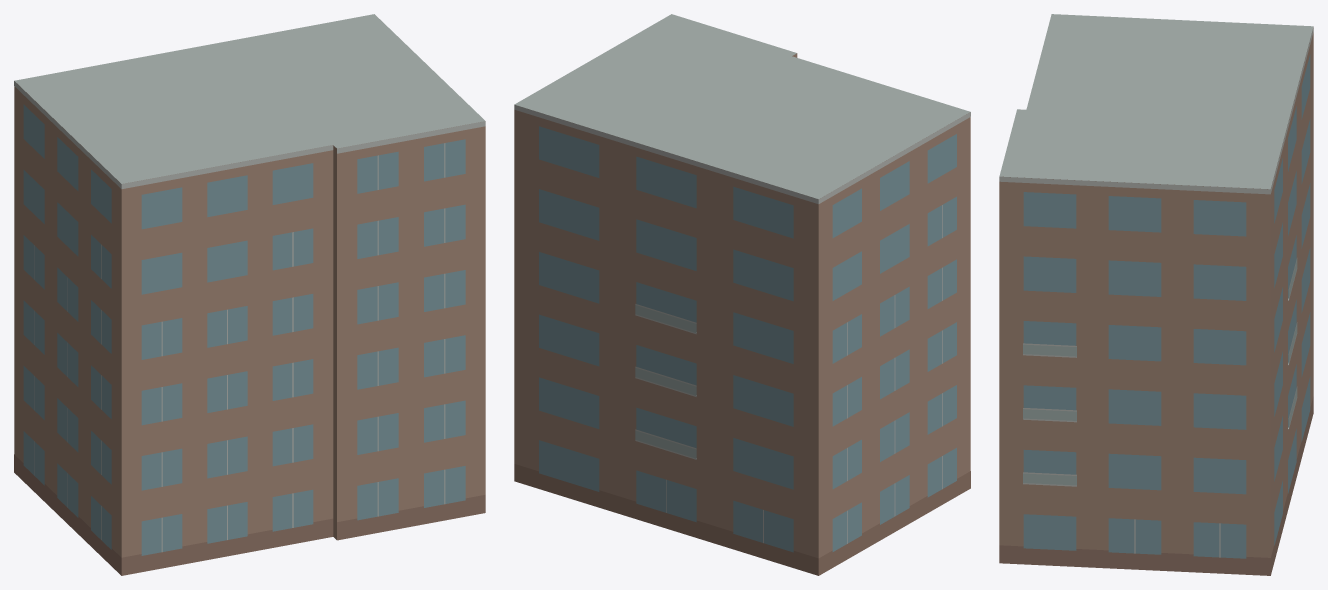
File: survey-upis-32671873.glb
3 renders of one model, left to right at view 1: azimuth 30°, elevation 25°; view 2: azimuth 150°, elevation 25°; view 3: azimuth 270°, elevation 25°, orthographic. The views are drawn at different scales.
Parts seen in each view (by area): view 1: survey-upis-32671873.tmp; view 2: survey-upis-32671873.tmp; view 3: survey-upis-32671873.tmp.
Boxes of the visible parts, left/top/right/bottom form: survey-upis-32671873.tmp: left=14, top=14, right=485, bottom=575; survey-upis-32671873.tmp: left=514, top=14, right=970, bottom=575; survey-upis-32671873.tmp: left=999, top=14, right=1313, bottom=575.
Size of the model in its own units: 17.8 by 18.3 by 13.49.
